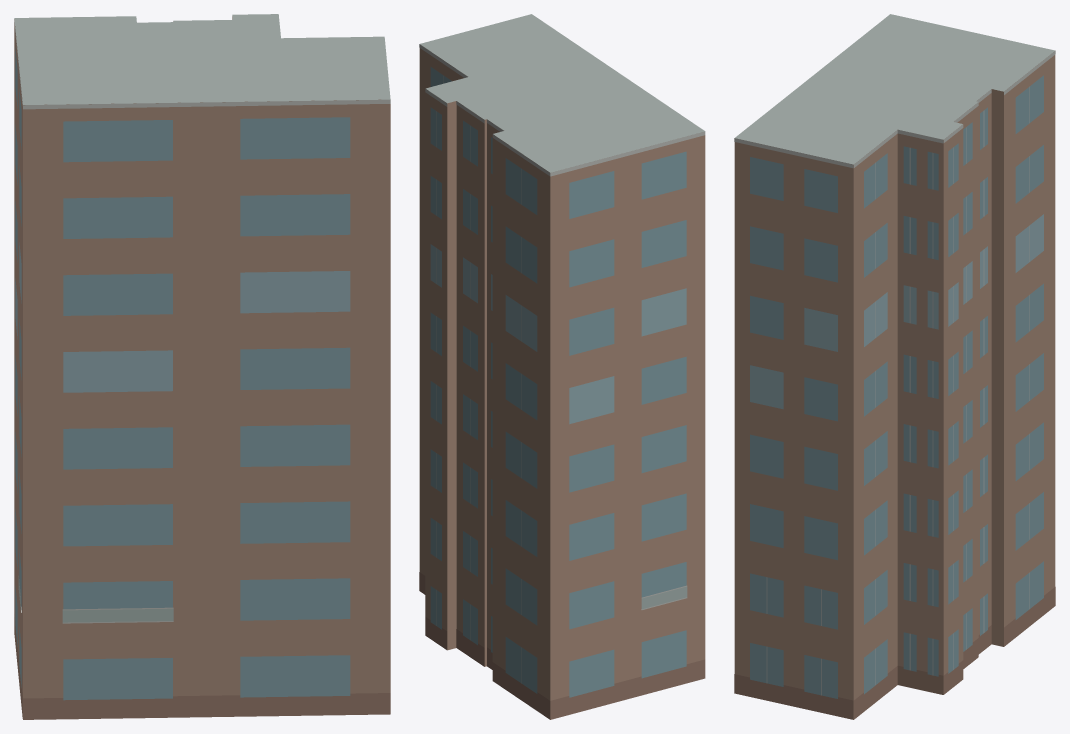
The model's file is survey-upis-32854038.glb.
The picture shows the model from 3 angles, left to right: view 1: azimuth 30°, elevation 25°; view 2: azimuth 150°, elevation 25°; view 3: azimuth 270°, elevation 25°; orthographic projection. The views are drawn at different scales.
Visible parts, largest first — view 1: survey-upis-32854038.tmp; view 2: survey-upis-32854038.tmp; view 3: survey-upis-32854038.tmp.
Boxes of the visible parts, x1=… form: survey-upis-32854038.tmp: x1=14, y1=14, x2=390, y2=719; survey-upis-32854038.tmp: x1=419, y1=14, x2=705, y2=719; survey-upis-32854038.tmp: x1=734, y1=14, x2=1055, y2=719.
Bounding box in the file's own units: 20.65 × 35.5 × 18.6.
